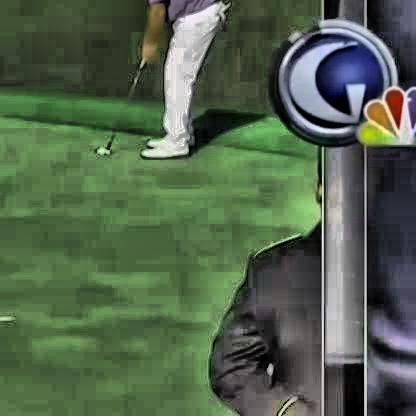golfball: (92, 146, 105, 156)
